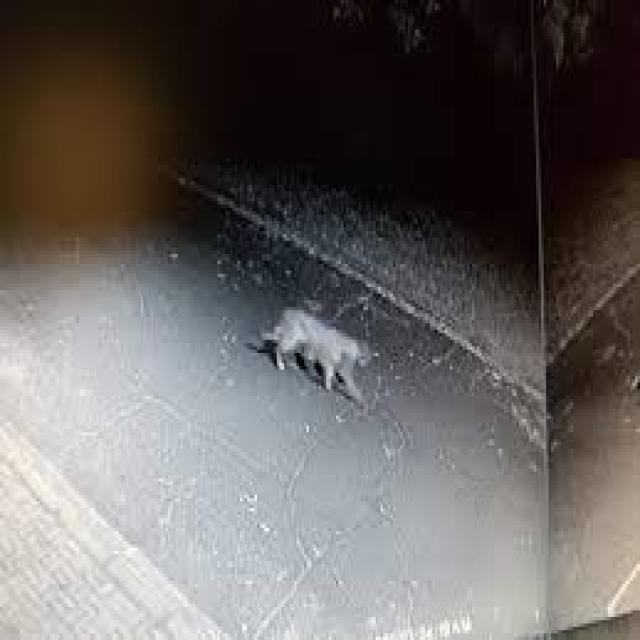Jaguar: (265, 300, 373, 396)
